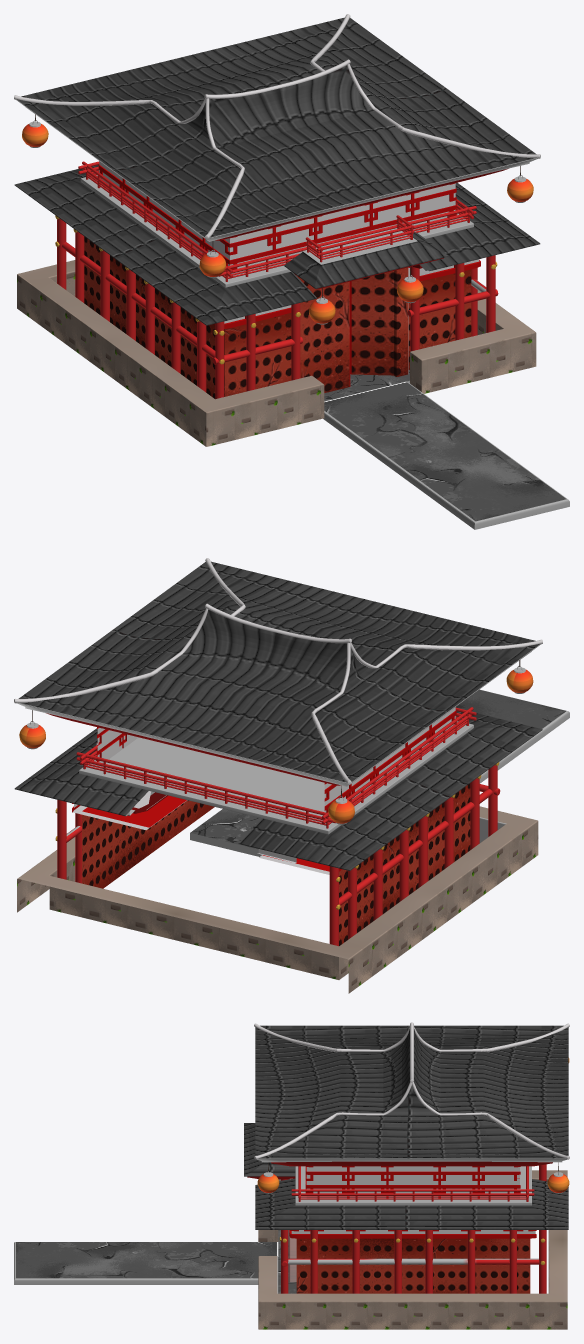
Rendered from templev2.fbx.
The picture shows the model from 3 angles, top to bottom: view 1: azimuth 30°, elevation 25°; view 2: azimuth 150°, elevation 25°; view 3: azimuth 270°, elevation 25°; orthographic projection. The views are drawn at different scales.
Parts seen in each view (by area): view 1: pCube41; view 2: pCube41; view 3: pCube41.
Part boxes in pixels (x1,y1,x2,y2): pCube41: (14,14,569,529); pCube41: (14,558,569,993); pCube41: (14,1022,569,1329).
Size of the model in its own units: 1944 by 1454 by 3411.
